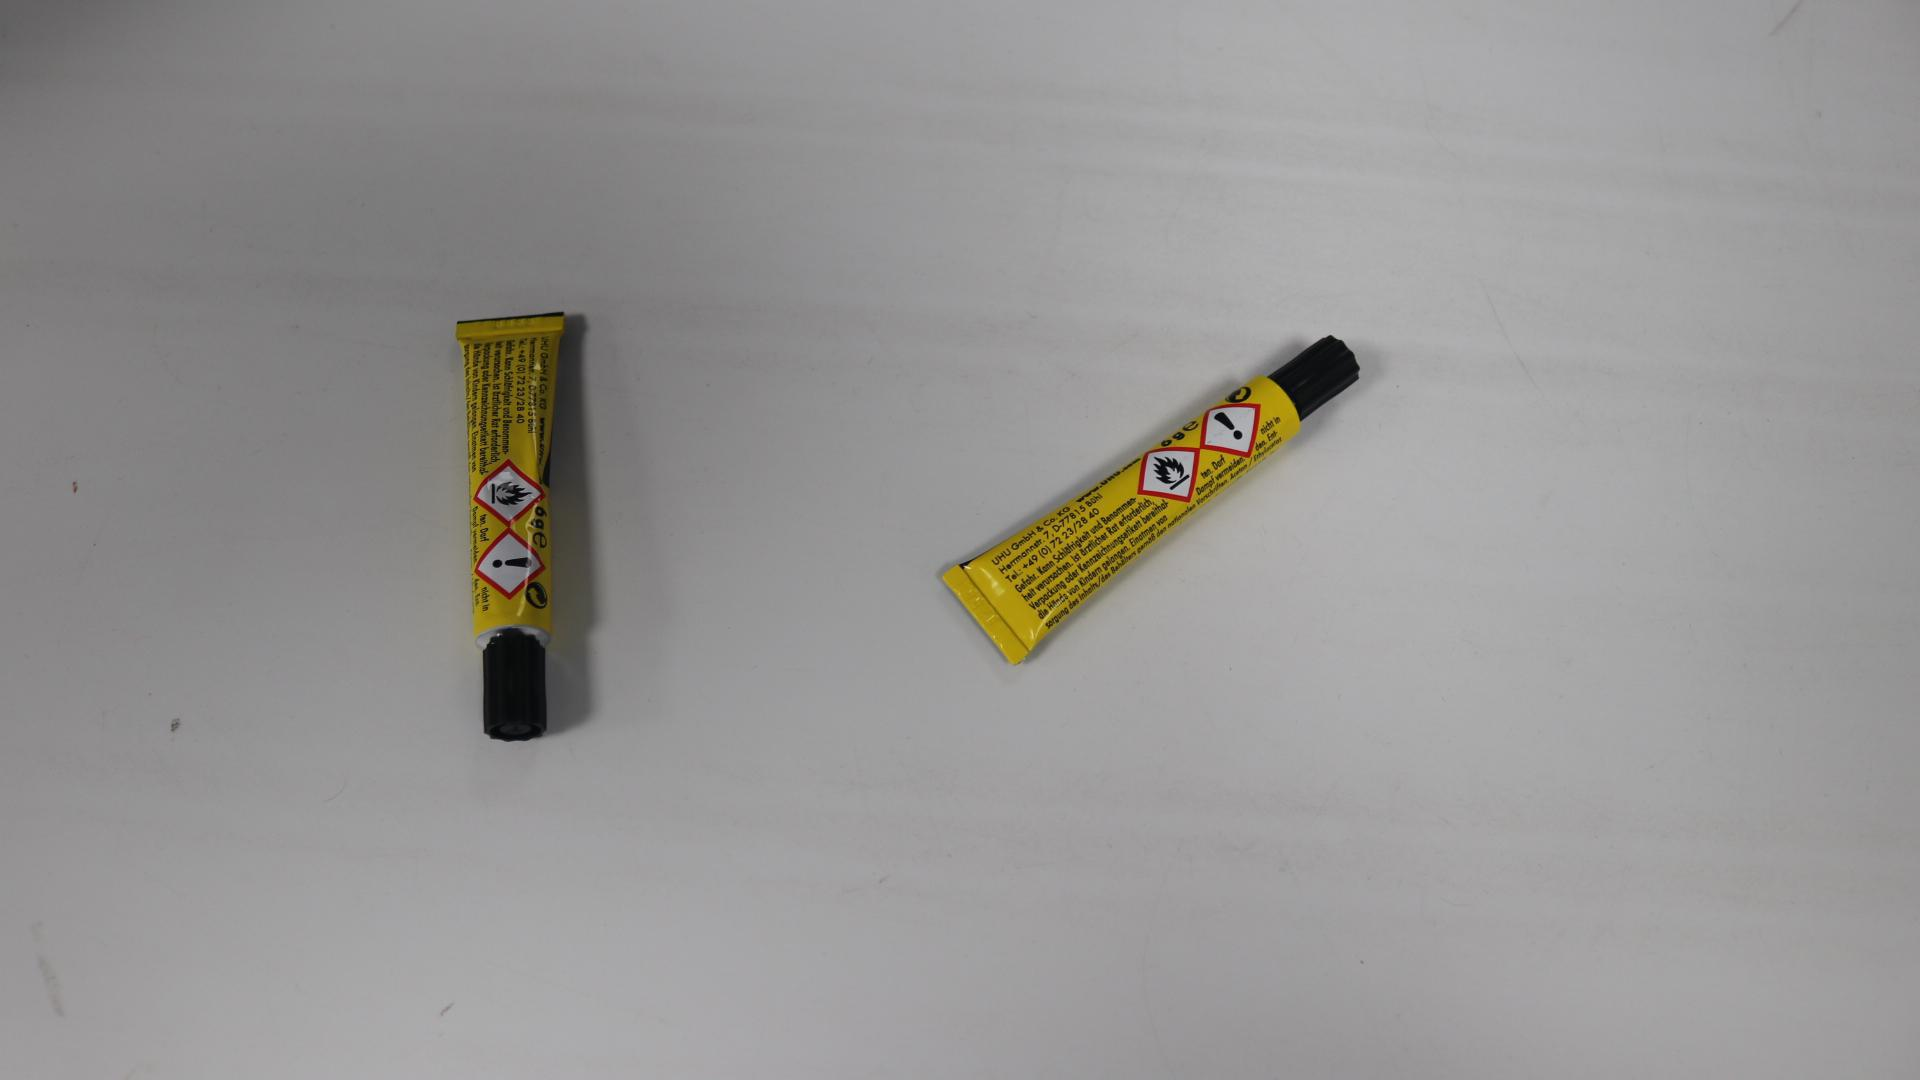Head: (509, 674, 520, 686), (1311, 371, 1321, 383)
Tail: (976, 607, 995, 626), (503, 321, 515, 332)
Tube: (943, 337, 1362, 666), (457, 312, 563, 741)
